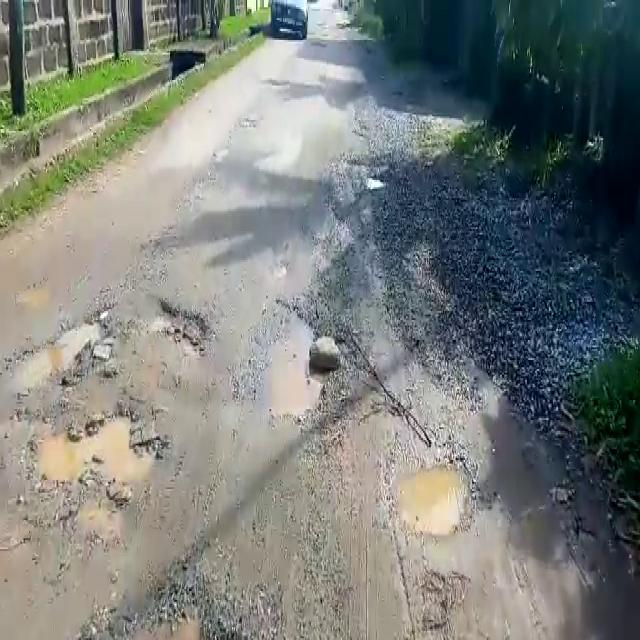Pothole: (33, 406, 167, 493), (5, 307, 120, 389), (258, 301, 324, 422), (391, 459, 468, 541), (137, 294, 209, 356)
